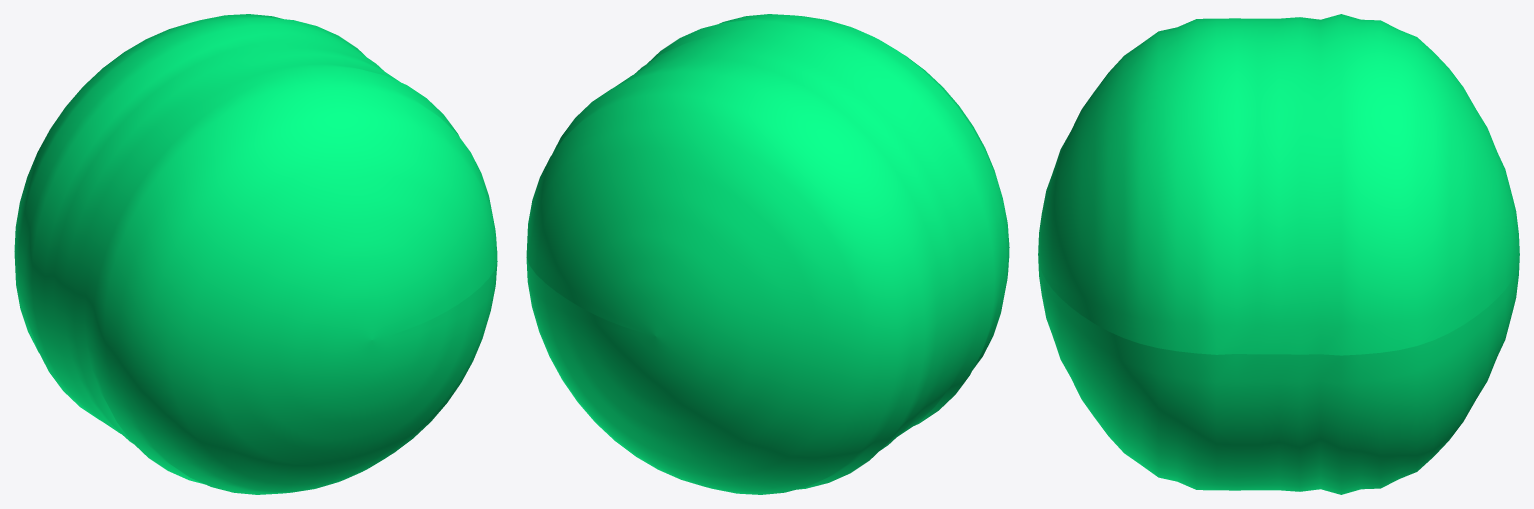
Rendered from ribosome_ultra-hd_fallback_1767372110489.glb.
The picture shows the model from 3 angles, left to right: view 1: azimuth 30°, elevation 25°; view 2: azimuth 150°, elevation 25°; view 3: azimuth 270°, elevation 25°; orthographic projection. The views are drawn at different scales.
Visible parts, largest first — view 1: MathShape; view 2: MathShape; view 3: MathShape.
Part boxes in pixels (x1,y1,x2,y2): MathShape: (14,14,497,494); MathShape: (526,14,1009,494); MathShape: (1038,14,1519,494).
Size of the model in its own units: 1.99 by 1.99 by 2.
